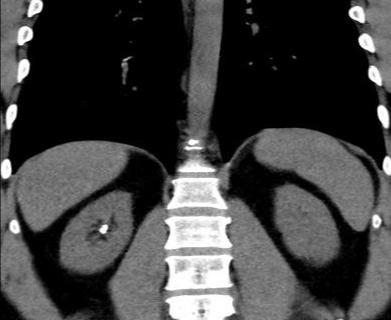Tas_Var: (98, 223, 108, 234)
